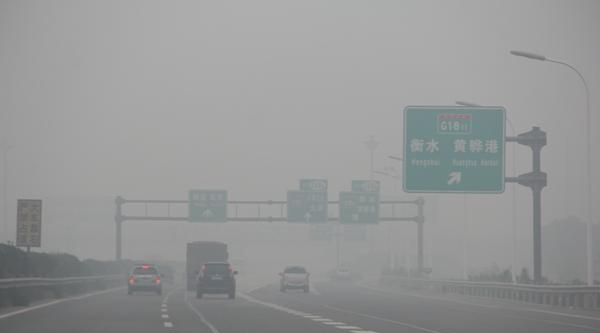bus: (185, 239, 229, 294)
car: (192, 261, 240, 301), (127, 265, 163, 296), (277, 266, 310, 292), (154, 265, 176, 285), (336, 266, 351, 279)
